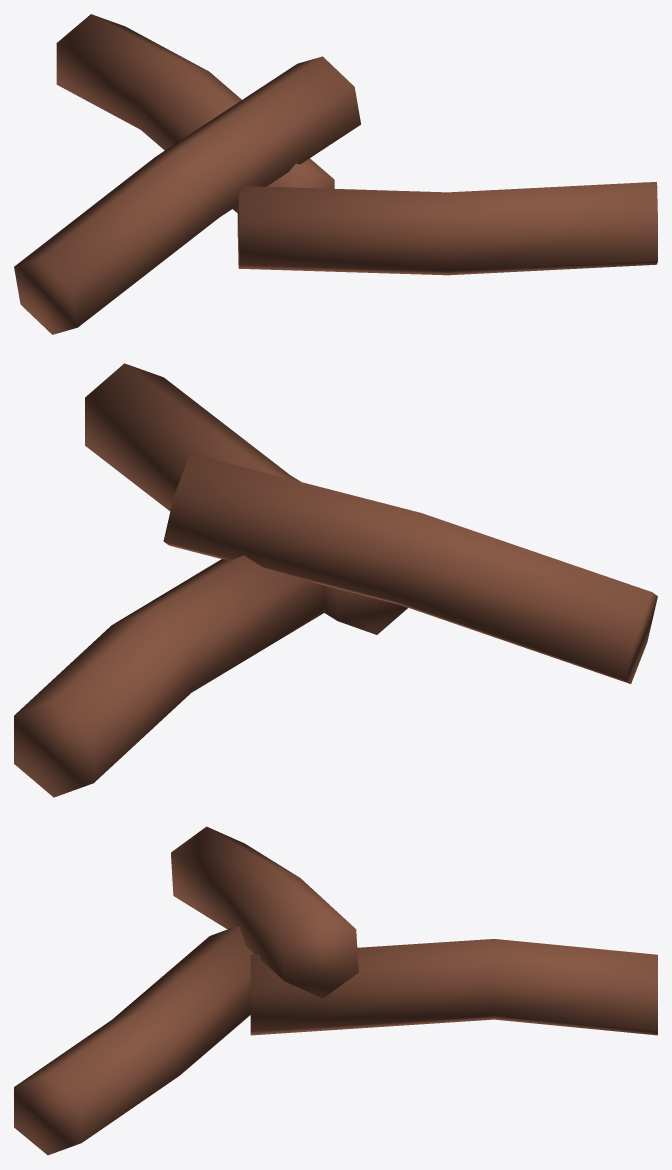
File: Logs.fbx
The picture shows the model from 3 angles, top to bottom: view 1: azimuth 30°, elevation 25°; view 2: azimuth 150°, elevation 25°; view 3: azimuth 270°, elevation 25°; orthographic projection. The views are drawn at different scales.
Visible parts, largest first — view 1: Logs; view 2: Logs; view 3: Logs.
Part boxes in pixels (bbox=[...]): Logs: bbox=[14, 14, 657, 334]; Logs: bbox=[14, 363, 657, 797]; Logs: bbox=[14, 826, 657, 1155].
Bounding box in the file's own units: 3 × 0.838 × 3.08.
